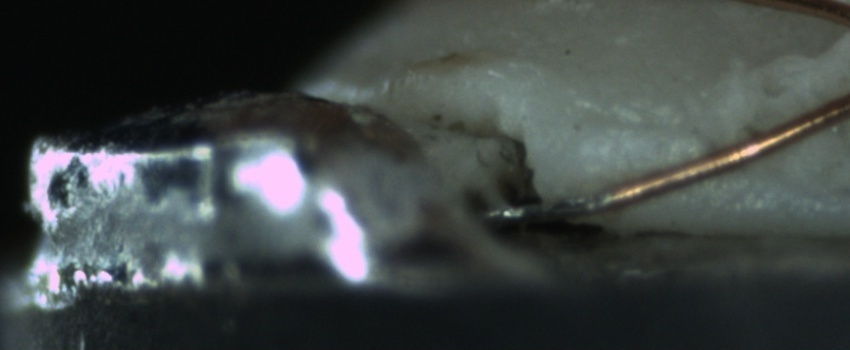DL: (572, 94, 706, 159)
TS: (479, 187, 612, 227)
